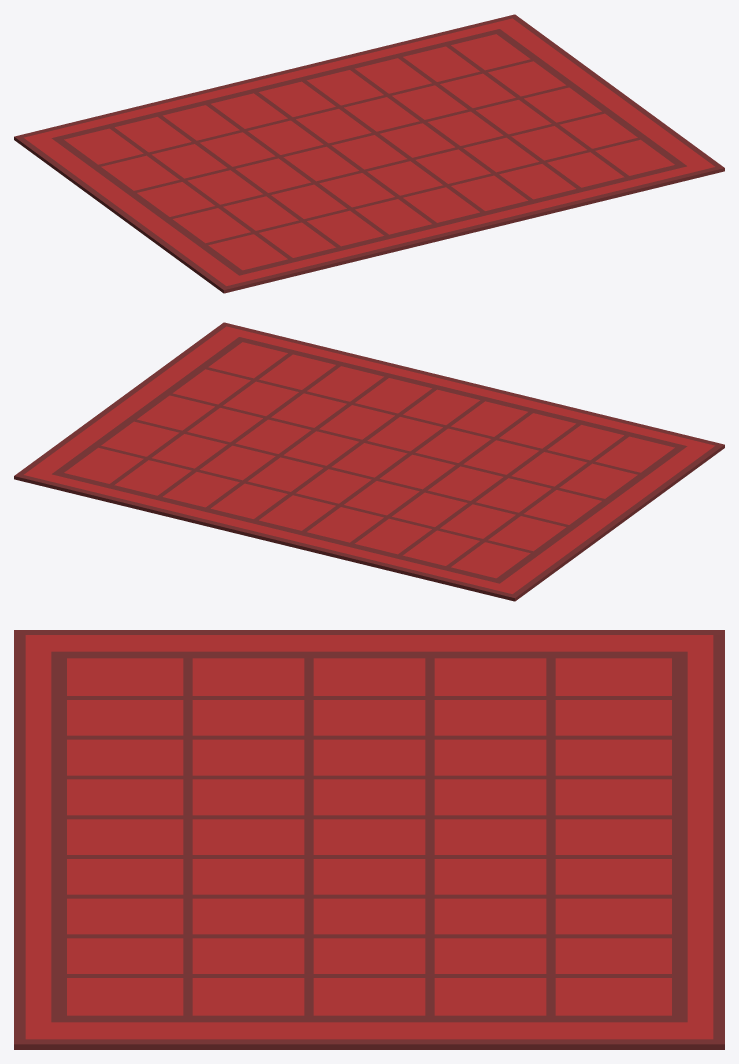
Rendered from Carpet_1.fbx.
The picture shows the model from 3 angles, top to bottom: view 1: azimuth 30°, elevation 25°; view 2: azimuth 150°, elevation 25°; view 3: azimuth 270°, elevation 25°; orthographic projection. The views are drawn at different scales.
Visible parts, largest first — view 1: Carpet_1; view 2: Carpet_1; view 3: Carpet_1.
Part boxes in pixels (x1,y1,x2,y2): Carpet_1: [14, 14, 724, 293]; Carpet_1: [14, 322, 724, 601]; Carpet_1: [14, 630, 724, 1049].
Size of the model in its own units: 364 by 264 by 2.36.
